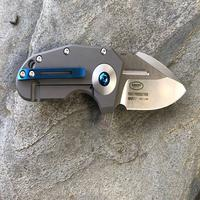knife: (10, 39, 196, 134)
